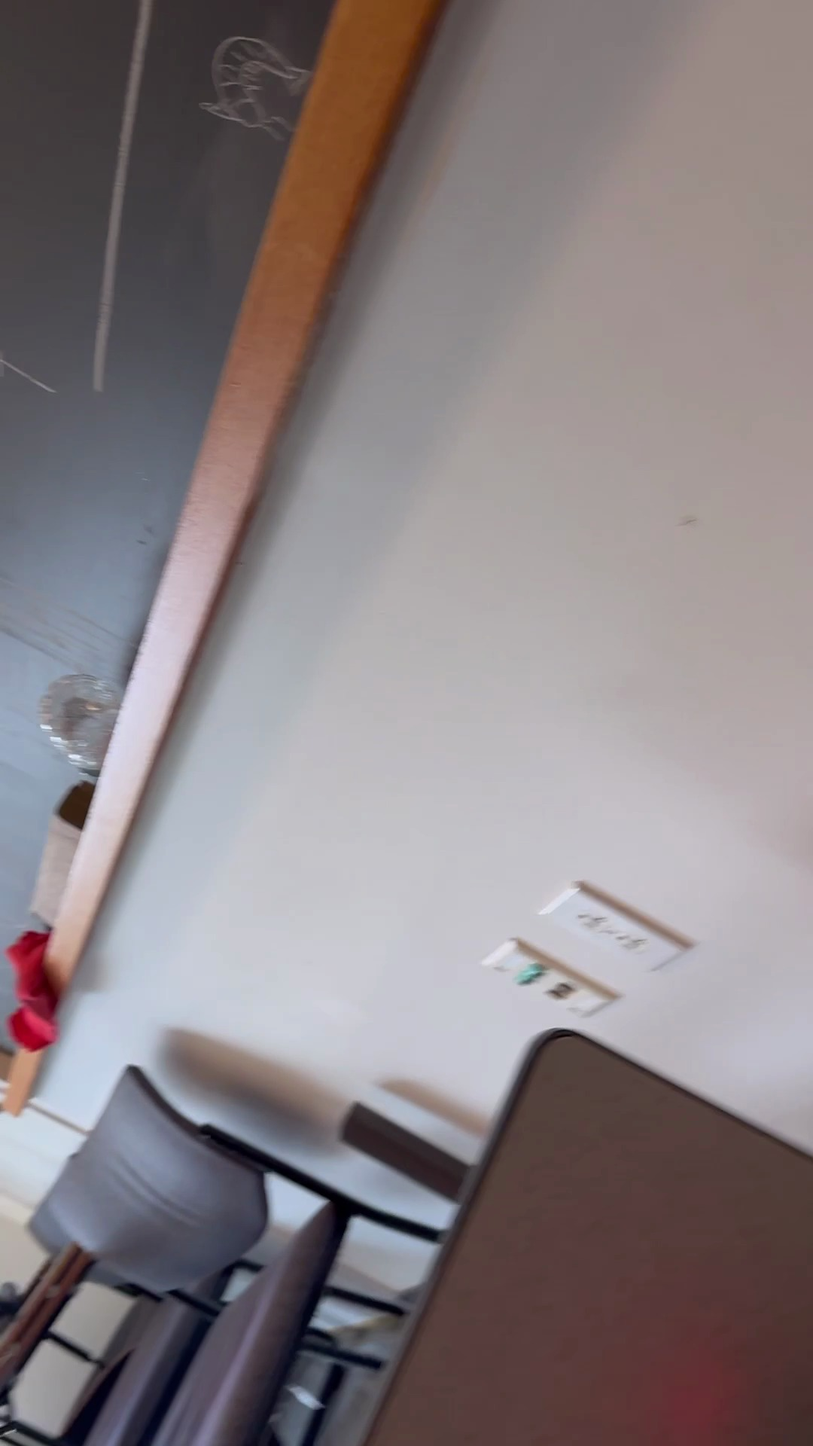racecar: (298, 1014, 809, 1445), (0, 1060, 337, 1444)
